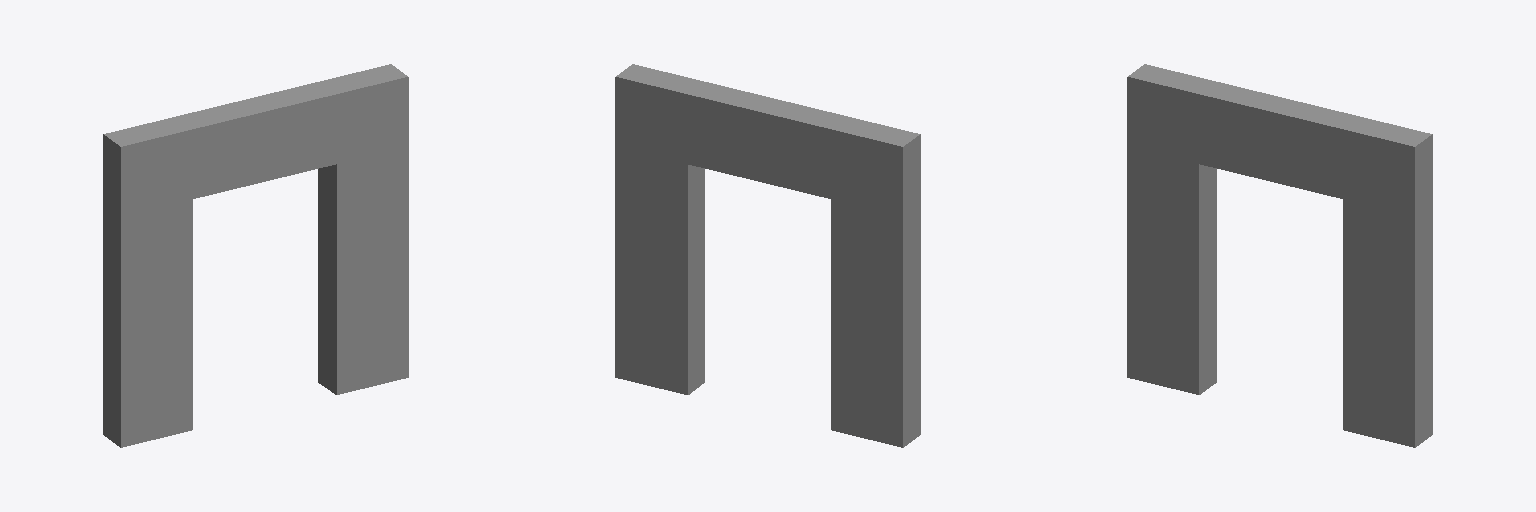
Rendered from door.obj.
3 renders of one model, left to right at view 1: azimuth 30°, elevation 25°; view 2: azimuth 150°, elevation 25°; view 3: azimuth 330°, elevation 25°, orthographic.
Parts seen in each view (by area): view 1: Cube; view 2: Cube; view 3: Cube.
Boxes of the visible parts, <box> form: Cube: <box>103,64,408,447</box>; Cube: <box>615,64,920,447</box>; Cube: <box>1127,64,1432,447</box>.
Size of the model in its own units: 2 by 2 by 0.2091.